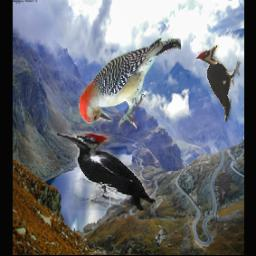Woodpecker: (78, 34, 180, 130), (56, 132, 155, 211), (196, 45, 242, 121)
